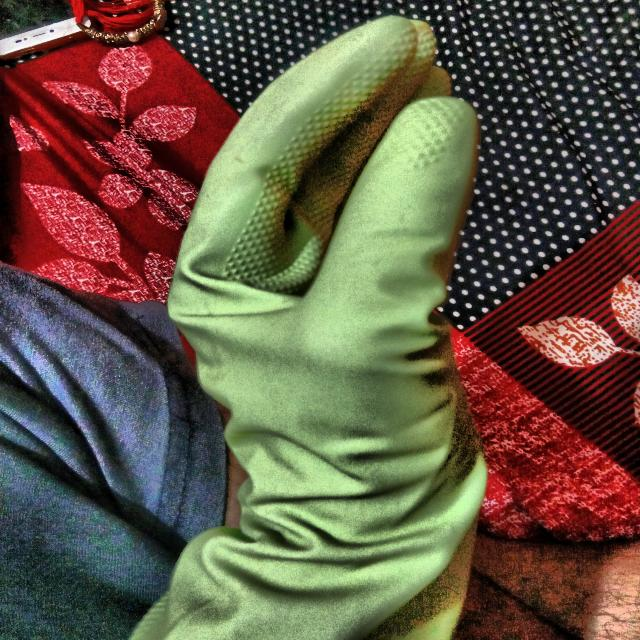gloved: (126, 16, 498, 639)
